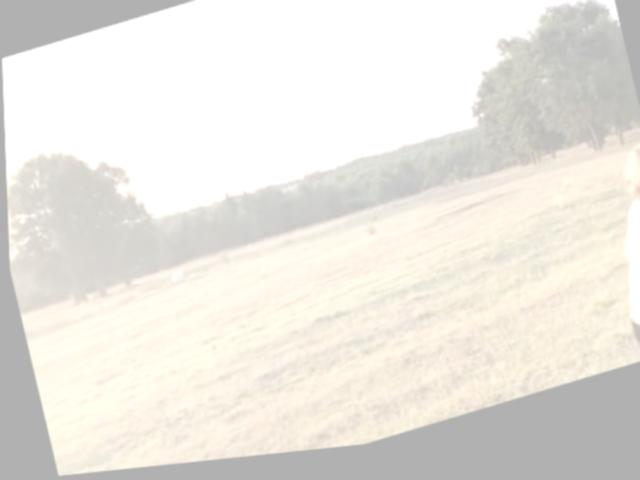uav: (245, 0, 272, 19)
